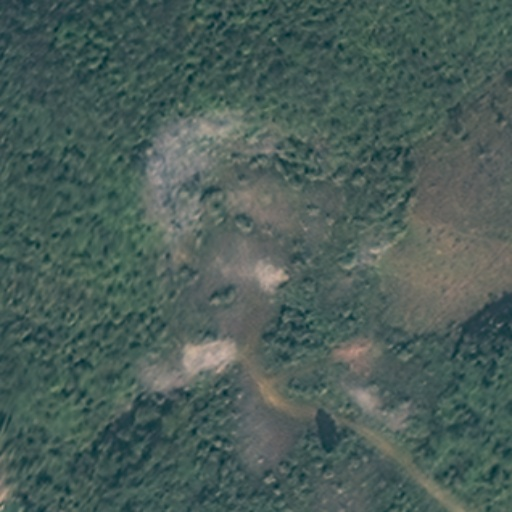landslide: (141, 110, 383, 380)
